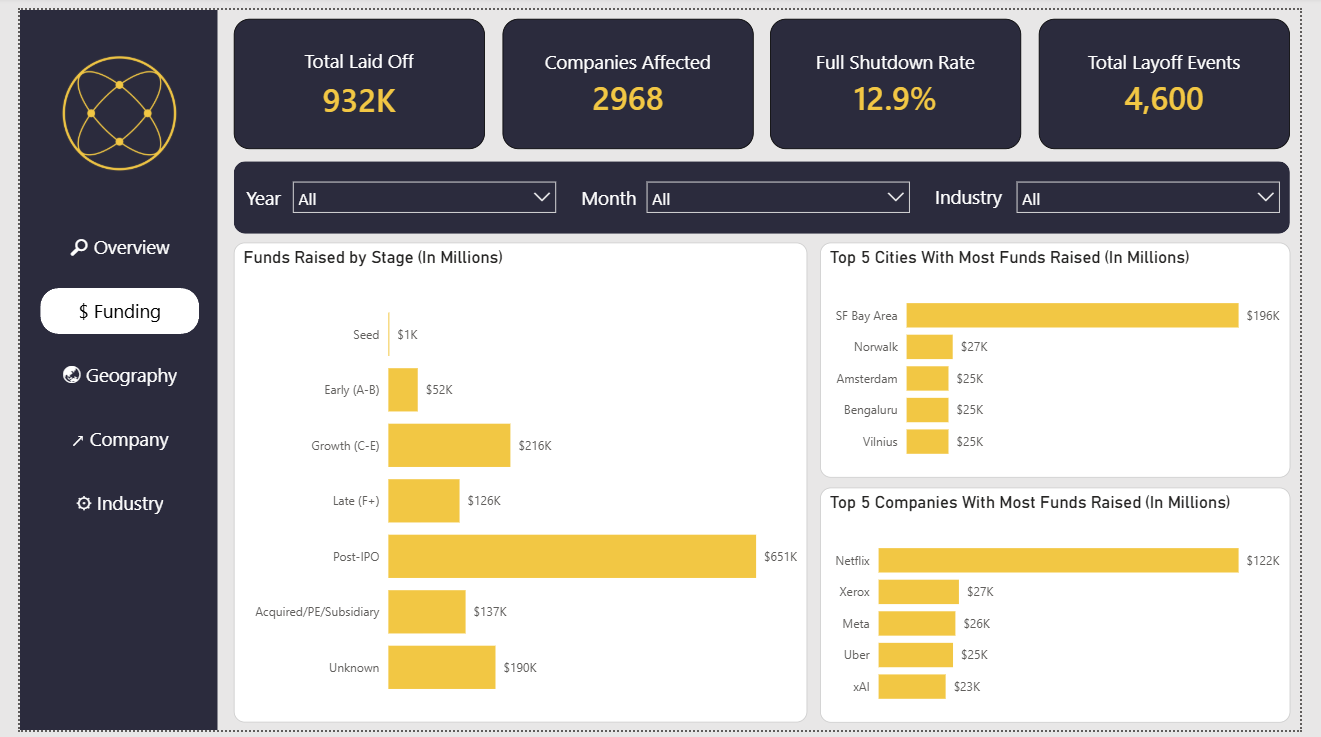

What the dashboard file says about the page in this screenshot:
{"tool":"powerbi","page":{"name":"$   Funding","canvas":[1280,720],"ordinal":1},"visuals":[{"type":"shape","box":[0,0,197.5,720],"z":0},{"type":"cardVisual","fields":{"Data":["Layoff Measures.Total Laid Off"]},"box":[213.5,8.8,251,130.4],"z":0,"group":"g2"},{"type":"shape","box":[213.8,151.2,1056.2,72.5],"z":0,"group":"g5"},{"type":"group","id":"g1","title":"Group 2","box":[221.2,161.1,324.1,49.5],"z":0,"group":"g7"},{"type":"group","id":"g2","title":"Group 1","box":[213.5,8.8,1056,130.4],"z":1000},{"type":"cardVisual","fields":{"Data":["Layoff Measures.Total Layoff Events"]},"box":[1018.5,8.8,251,130.4],"z":1000,"group":"g2"},{"type":"group","id":"g3","title":"Group 4","box":[556.5,161.1,343.8,49.5],"z":1000,"group":"g7"},{"type":"cardVisual","fields":{"Data":["General Measures.Companies Affected"]},"box":[481.7,9.2,251.2,130],"z":2000,"group":"g2"},{"type":"group","id":"g4","title":"Group 5","box":[910.3,161.1,359.4,50.7],"z":2000,"group":"g7"},{"type":"pageNavigator","box":[11.2,205,177.5,322.5],"z":2000},{"type":"cardVisual","fields":{"Data":["General Measures.Full Shutdowns % (Disclosed)"]},"box":[750.3,8.8,251,130.4],"z":3000,"group":"g2"},{"type":"image","box":[6.2,22.5,186.2,161.2],"z":3000},{"type":"group","id":"g5","title":"Group 7","box":[213.8,151.2,1056.2,72.5],"z":4000},{"type":"clusteredBarChart","title":"Funds Raised by Stage (In Millions)","fields":{"Category":["dim_stage.stage group"],"Y":["Fund Measures.Total Funds Raised"]},"box":[213.8,232.5,573.8,480],"z":5000},{"type":"clusteredBarChart","title":"Top 5 Companies With Most Funds Raised (In Millions)","fields":{"Category":["dim_company.company"],"Y":["Fund Measures.Total Funds Raised"]},"box":[800,477.5,470,235],"z":6000},{"type":"clusteredBarChart","title":"Top 5 Cities With Most Funds Raised (In Millions)","fields":{"Category":["dim_city.city"],"Y":["Fund Measures.Total Funds Raised"]},"box":[800,232.5,470,235],"z":7000},{"type":"textbox","box":[556.5,169.8,82.9,35.9],"z":7002,"group":"g3"},{"type":"slicer","fields":{"Values":["dim_date.Year"]},"box":[262,161.1,283.3,49.5],"z":8000,"group":"g6"},{"type":"slicer","fields":{"Values":["dim_date.month_name"]},"box":[617,161.1,283.3,49.5],"z":8000,"group":"g3"},{"type":"slicer","fields":{"Values":["dim_industry.industry"]},"box":[986.5,161.1,283.3,50.7],"z":8000,"group":"g4"},{"type":"group","id":"g6","title":"Group 3","box":[221.2,161.1,324.1,49.5],"z":8001,"group":"g1"},{"type":"textbox","box":[910.3,168.5,92.8,35.9],"z":9000,"group":"g4"},{"type":"textbox","box":[221.2,169.9,65,36.2],"z":9001,"group":"g6"},{"type":"group","id":"g7","title":"Group 6","box":[221.2,161.1,1048.5,50.7],"z":9003,"group":"g5"}]}

Visuals, with their boxes in screenshot pixels (x1, y1, x2, y2), scaled from the page's 1280x720 canvas onto the 1321x737 screenshot:
shape: 0 0 204 736
cardVisual - Layoff Measures.Total Laid Off: 220 9 479 142
shape: 221 155 1311 229
"Group 2" group: 228 165 563 216
"Group 1" group: 220 9 1310 142
cardVisual - Layoff Measures.Total Layoff Events: 1051 9 1310 142
"Group 4" group: 574 165 929 216
cardVisual - General Measures.Companies Affected: 497 9 756 142
"Group 5" group: 939 165 1310 217
pageNavigator: 12 210 195 540
cardVisual - General Measures.Full Shutdowns % (Disclosed): 774 9 1033 142
image: 6 23 199 188
"Group 7" group: 221 155 1311 229
"Funds Raised by Stage (In Millions)" clusteredBarChart: 221 238 813 729
"Top 5 Companies With Most Funds Raised (In Millions)" clusteredBarChart: 826 489 1311 729
"Top 5 Cities With Most Funds Raised (In Millions)" clusteredBarChart: 826 238 1311 479
textbox: 574 174 660 211
slicer - dim_date.Year: 270 165 563 216
slicer - dim_date.month_name: 637 165 929 216
slicer - dim_industry.industry: 1018 165 1310 217
"Group 3" group: 228 165 563 216
textbox: 939 172 1035 209
textbox: 228 174 295 211
"Group 6" group: 228 165 1310 217
